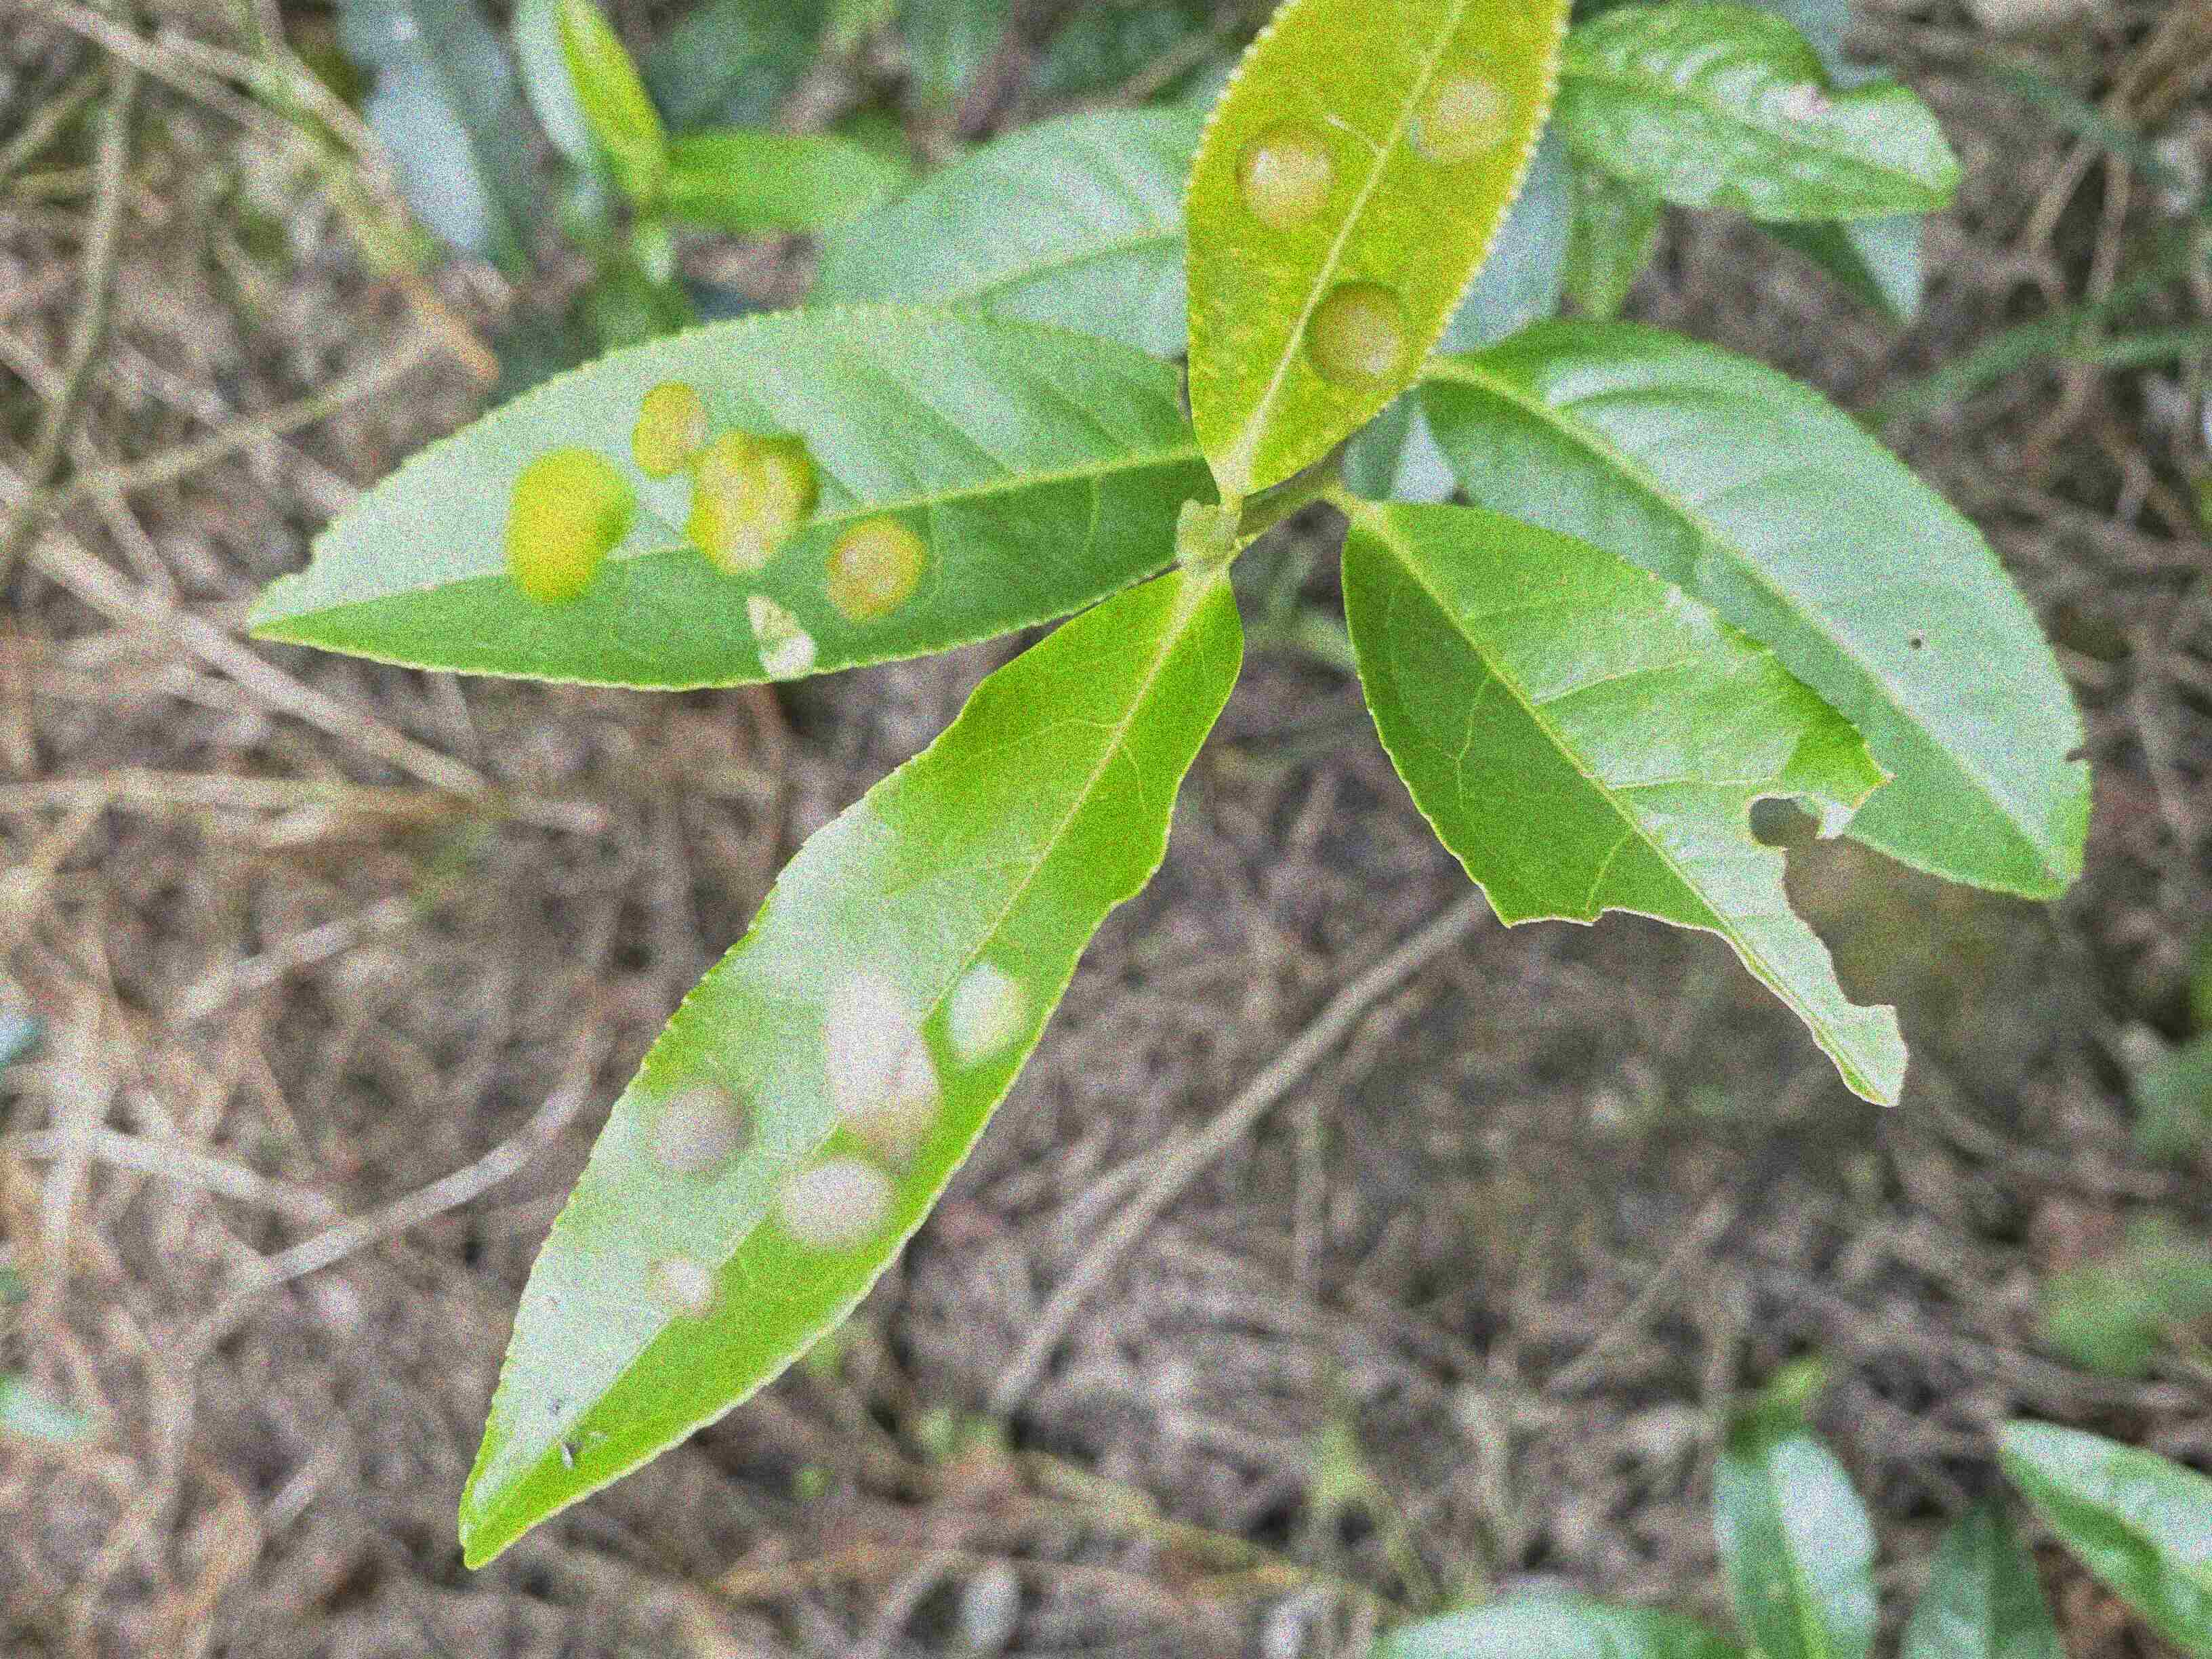chabing_high: (458, 566, 1247, 1572), (242, 307, 1197, 695), (1181, 3, 1569, 497)
chihuo_high: (1332, 505, 1914, 1108)
